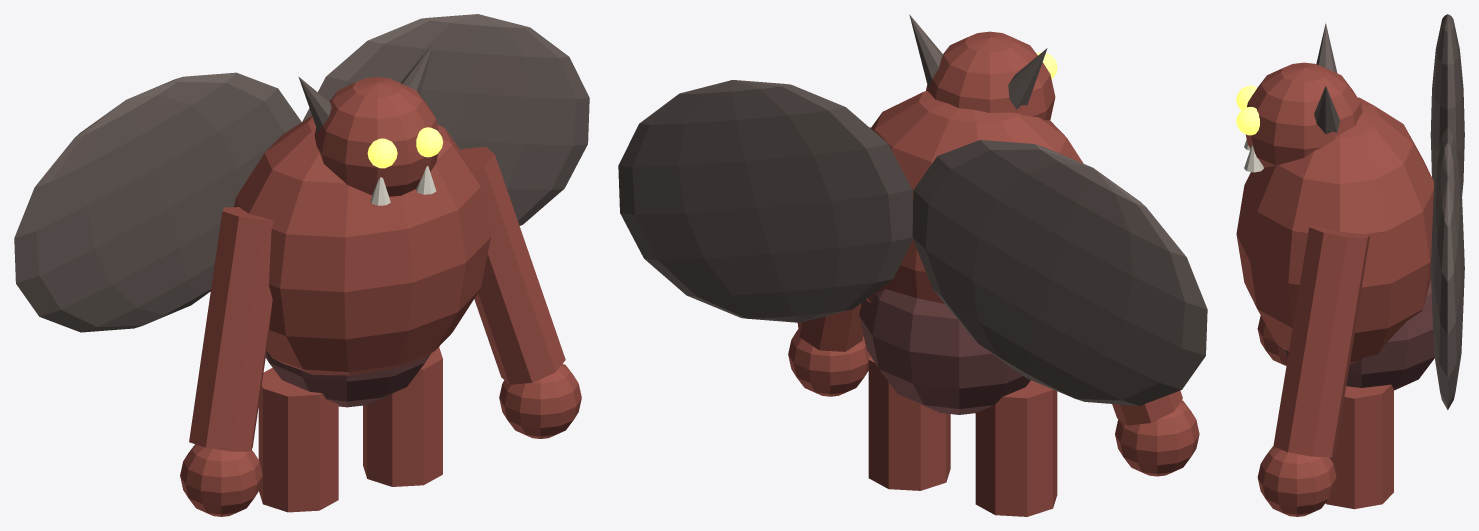
Rendered from creature_demon_arch.glb.
3 renders of one model, left to right at view 1: azimuth 30°, elevation 25°; view 2: azimuth 150°, elevation 25°; view 3: azimuth 270°, elevation 25°, orthographic. The views are drawn at different scales.
Parts seen in each view (by area): view 1: creature_demon_arch; view 2: creature_demon_arch; view 3: creature_demon_arch.
Part boxes in pixels (<box>): creature_demon_arch: <box>14,14,589,516</box>; creature_demon_arch: <box>618,14,1207,516</box>; creature_demon_arch: <box>1236,14,1464,516</box>.
Size of the model in its own units: 1.39 by 1 by 0.5006.
